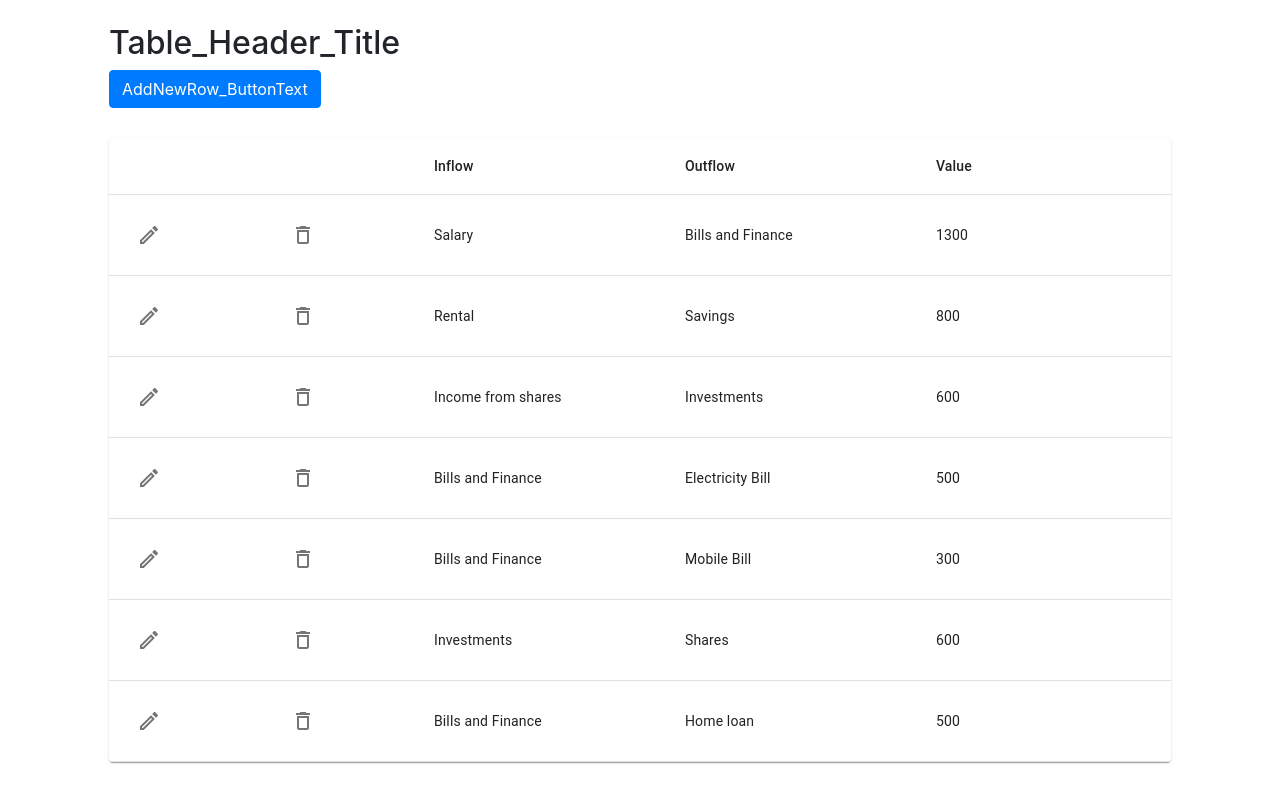
Table component › Display edit mode on clicking edit
The width and height of the screenshot is (1280, 800).
Step 1. Click the 1st button with test id "editInput" → (149, 235), box [125, 211, 173, 259]
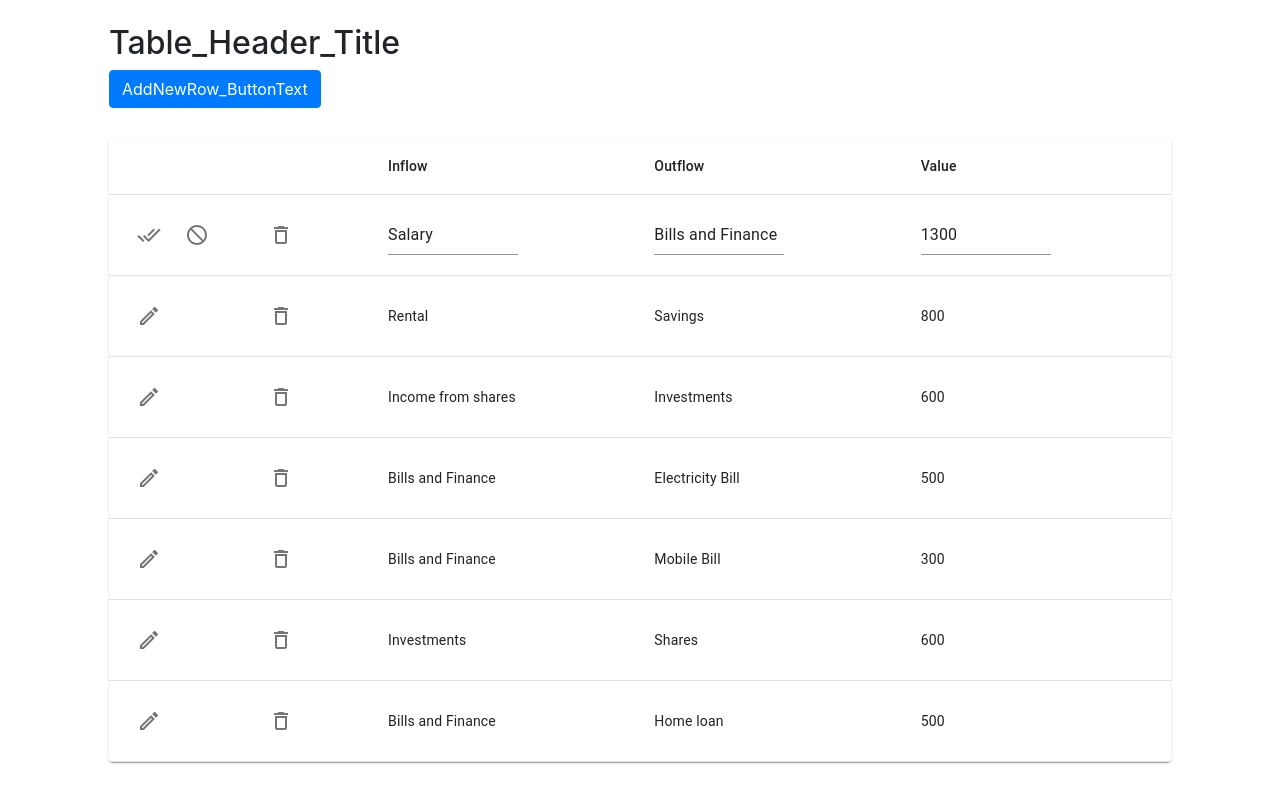
Result: the number of buttons with test id "revertIcon" is 1 at [173, 211, 221, 259]
Result: the number of buttons with test id "doneIcon" is 1 at [125, 211, 173, 259]
